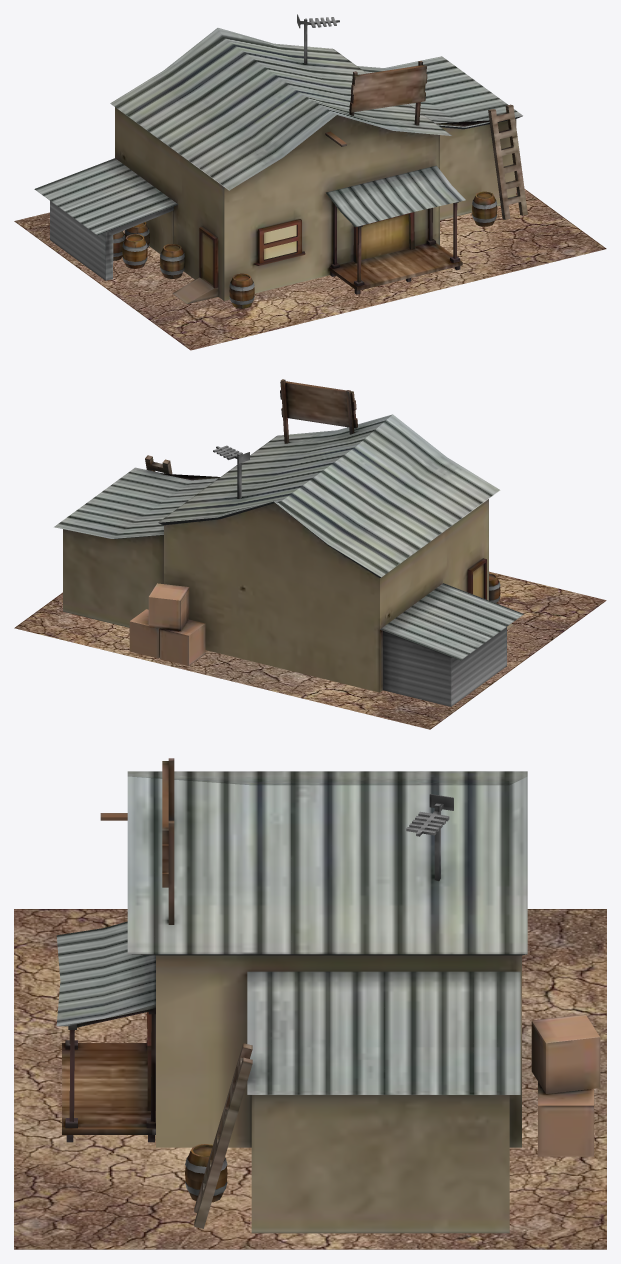
Rendered from b_fact_me.glb.
3 views of the same model, one above another, from view 1: azimuth 30°, elevation 25°; view 2: azimuth 150°, elevation 25°; view 3: azimuth 270°, elevation 25° (orthographic). The views are drawn at different scales.
Visible parts, largest first — view 1: polySurface6_lambert5_0, pPlane1_lambert6_0; view 2: polySurface6_lambert5_0, pPlane1_lambert6_0; view 3: polySurface6_lambert5_0, pPlane1_lambert6_0.
Part boxes in pixels (x1,y1,x2,y2): polySurface6_lambert5_0: [34, 14, 527, 308]; pPlane1_lambert6_0: [14, 188, 606, 350]; polySurface6_lambert5_0: [54, 379, 523, 706]; pPlane1_lambert6_0: [14, 571, 606, 729]; polySurface6_lambert5_0: [56, 758, 600, 1233]; pPlane1_lambert6_0: [14, 909, 606, 1249].
Size of the model in its own units: 24.55 by 10.73 by 17.84.
2 materials, 2 textured.
